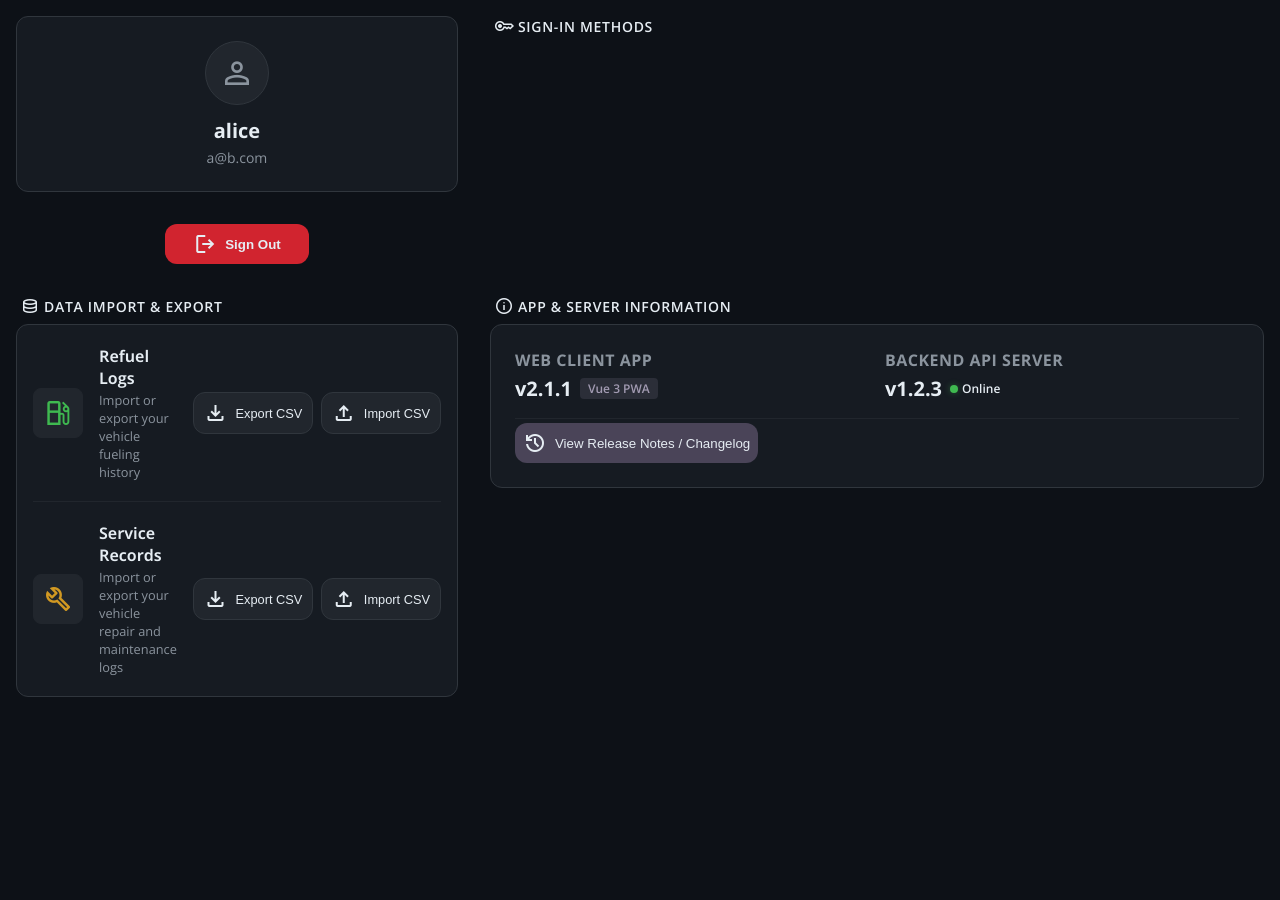
SettingsView › service import wizard › preselects the default vehicle and requires a file
Click the button "Import CSV" below "Service Records" at (381, 599), box [321,578,441,620]
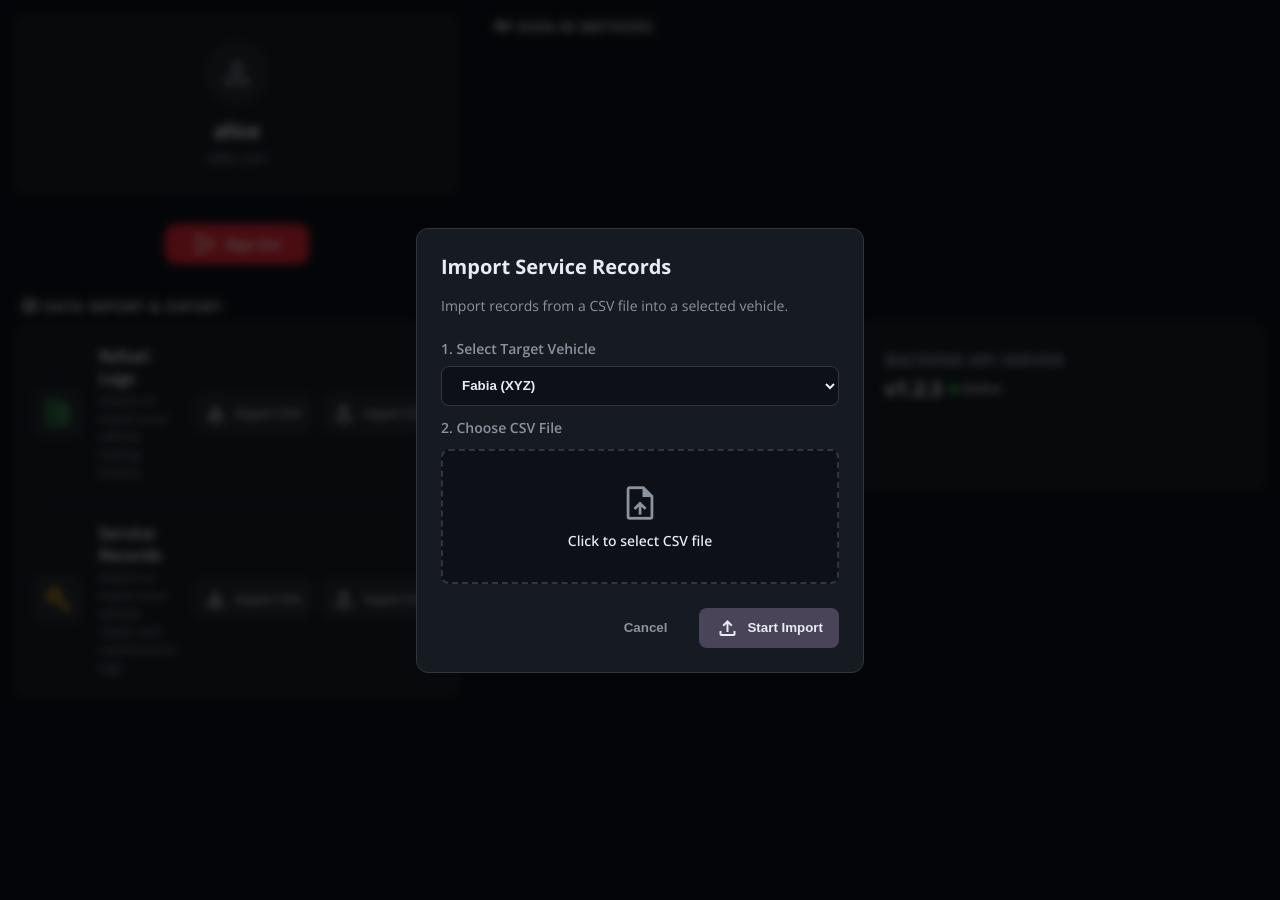
Expected: the dropdown with id "import_vehicle" shows "Fabia (XYZ)", [441,366,839,406]
Expected: the button with class "icon-label-button" showing "Start Import" is disabled, [700,608,839,648]
Expected: the element with class "file-prompt" is shown, [568,530,712,550]
